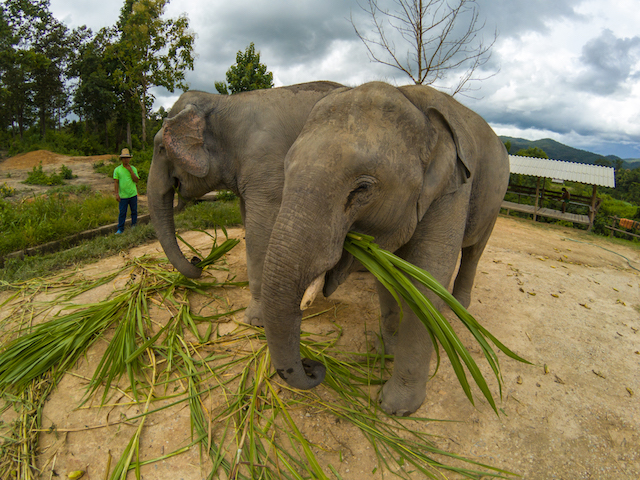elephant: (257, 78, 519, 419), (143, 76, 401, 333)
